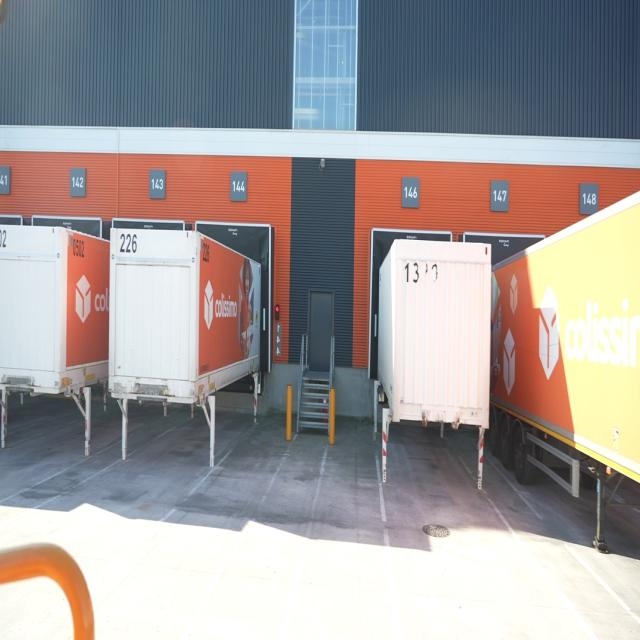Code: (115, 228, 137, 260), (69, 235, 86, 262)
